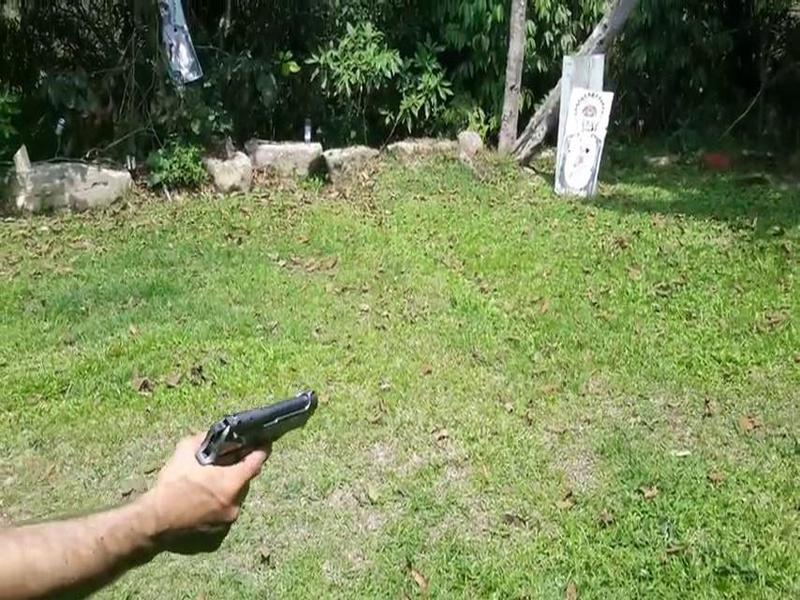Pistola: (178, 378, 329, 457)
